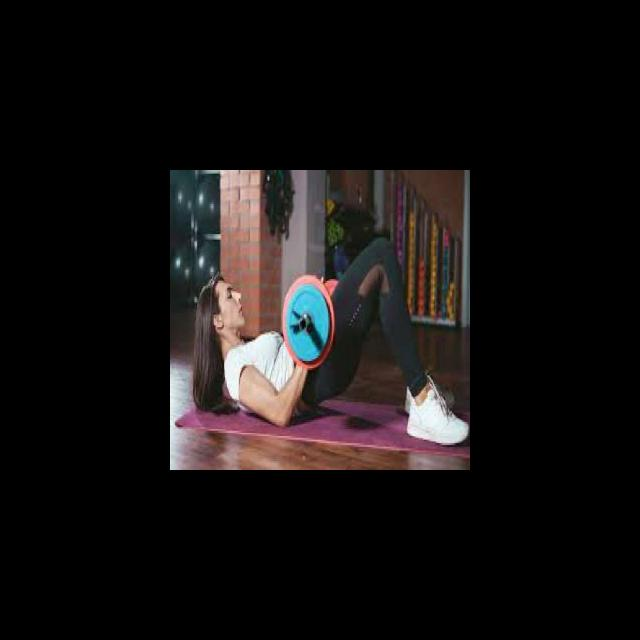barbell: (278, 271, 337, 370)
